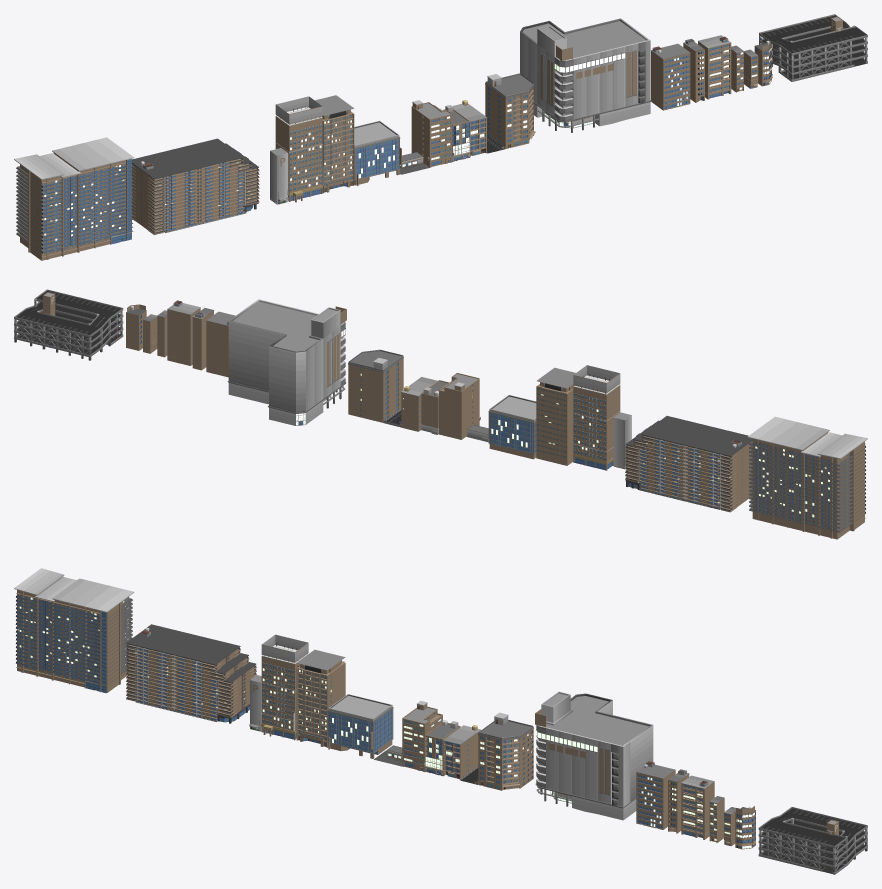
File: Building.fbx
3 renders of one model, top to bottom at view 1: azimuth 30°, elevation 25°; view 2: azimuth 150°, elevation 25°; view 3: azimuth 330°, elevation 25°, orthographic.
Parts seen in each view (by area): view 1: Bilding.007, Bilding.019, Bilding.018, Bilding.006, Bilding.016, Bilding.001, Bilding.015, Bilding.008, Bilding.013, Bilding.004, Bilding.012, Bilding.017 (+6 smaller); view 2: Bilding.007, Bilding.019, Bilding.018, Bilding.006, Bilding.016, Bilding.001, Bilding.015, Bilding.008, Bilding.004, Bilding.012, Bilding.013, Bilding.003 (+5 smaller); view 3: Bilding.019, Bilding.007, Bilding.018, Bilding.006, Bilding.016, Bilding.001, Bilding.015, Bilding.008, Bilding.013, Bilding.004, Bilding.012, Bilding.003 (+5 smaller).
Part boxes in pixels (x1,y1,x2,y2): Bilding.007: (520,18,651,132); Bilding.019: (14,137,134,260); Bilding.018: (132,138,259,234); Bilding.006: (759,14,867,81); Bilding.016: (275,96,323,202); Bilding.001: (485,73,535,148); Bilding.015: (307,95,354,193); Bilding.008: (354,120,401,185); Bilding.013: (651,43,690,110); Bilding.004: (411,100,452,167); Bilding.012: (698,35,731,99); Bilding.017: (270,148,288,204); Bilding.007: (227,299,346,425); Bilding.019: (747,416,867,539); Bilding.018: (625,416,752,512); Bilding.006: (14,289,123,360); Bilding.016: (573,365,620,470); Bilding.001: (348,349,403,422); Bilding.015: (536,367,575,465); Bilding.008: (488,395,536,459); Bilding.004: (439,373,479,439); Bilding.012: (167,300,200,365); Bilding.013: (206,311,235,377); Bilding.003: (401,377,437,431); Bilding.019: (14,568,134,692); Bilding.007: (535,691,653,820); Bilding.018: (126,624,256,723); Bilding.006: (758,807,867,874); Bilding.016: (261,634,308,740); Bilding.001: (478,712,533,790); Bilding.015: (296,649,345,747); Bilding.008: (327,694,393,758); Bilding.013: (636,761,675,829); Bilding.004: (402,701,442,771); Bilding.012: (681,775,714,839); Bilding.003: (443,725,480,780).
Bounding box in the file's own units: 472 × 49.37 × 48.29.
7 materials, 3 textured.
